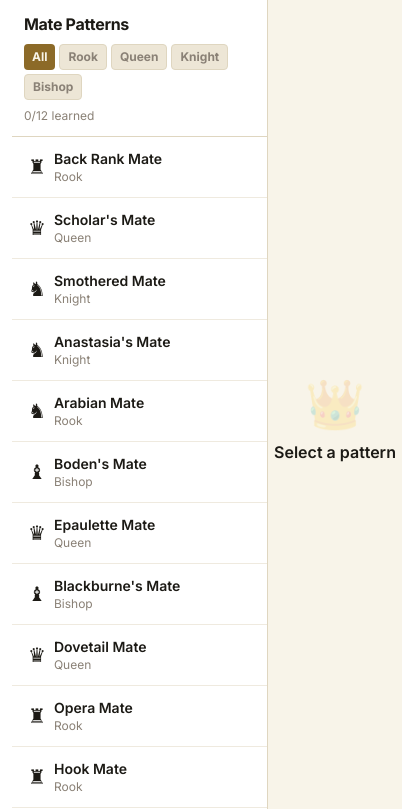
Test: MatePatternsPage › category filter narrows the pattern list
The image size is (402, 809).
Check: the text "Back Rank Mate" is shown, box [54,149,162,169]
Click the button "Knight" at (200,57), box [172,44,228,70]
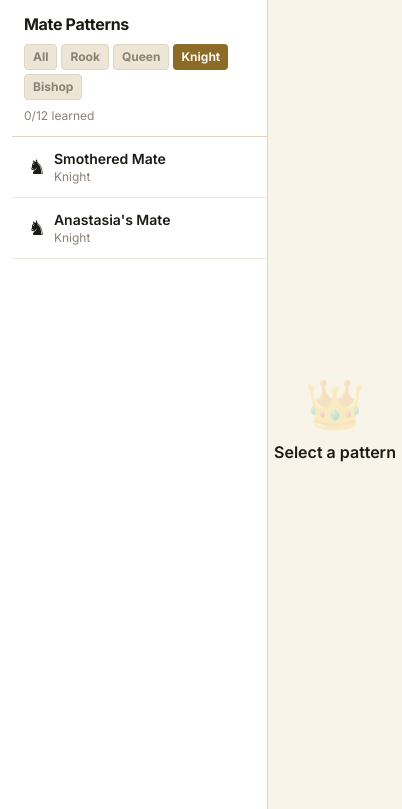
Check: the text "Smothered Mate" is shown, box [54,149,166,169]
Check: the button "Back Rank Mate" is gone
